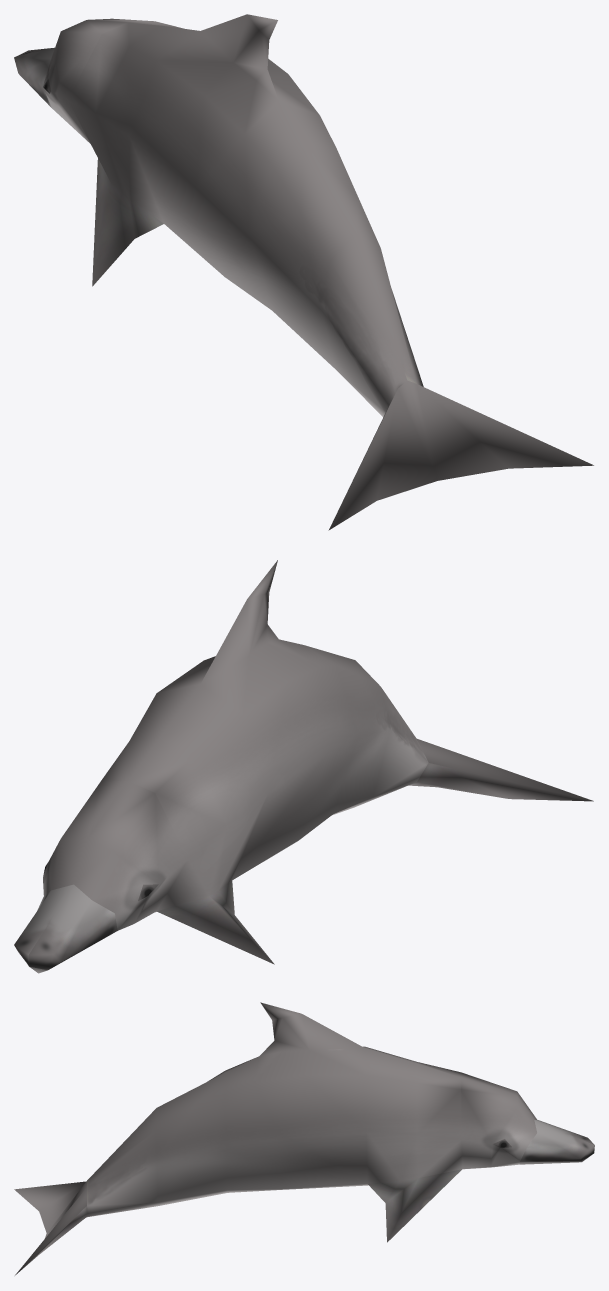
The model's file is dolphinToy.obj.
The picture shows the model from 3 angles, top to bottom: view 1: azimuth 30°, elevation 25°; view 2: azimuth 150°, elevation 25°; view 3: azimuth 270°, elevation 25°; orthographic projection. The views are drawn at different scales.
Parts seen in each view (by area): view 1: obj.dolphinToy.000_Cylinder.001; view 2: obj.dolphinToy.000_Cylinder.001; view 3: obj.dolphinToy.000_Cylinder.001.
Boxes of the visible parts, x1,y1,x2,y2 form: obj.dolphinToy.000_Cylinder.001: [14, 14, 593, 530]; obj.dolphinToy.000_Cylinder.001: [14, 560, 593, 973]; obj.dolphinToy.000_Cylinder.001: [14, 1002, 594, 1275].
Size of the model in its own units: 0.8407 by 1.04 by 2.37.
